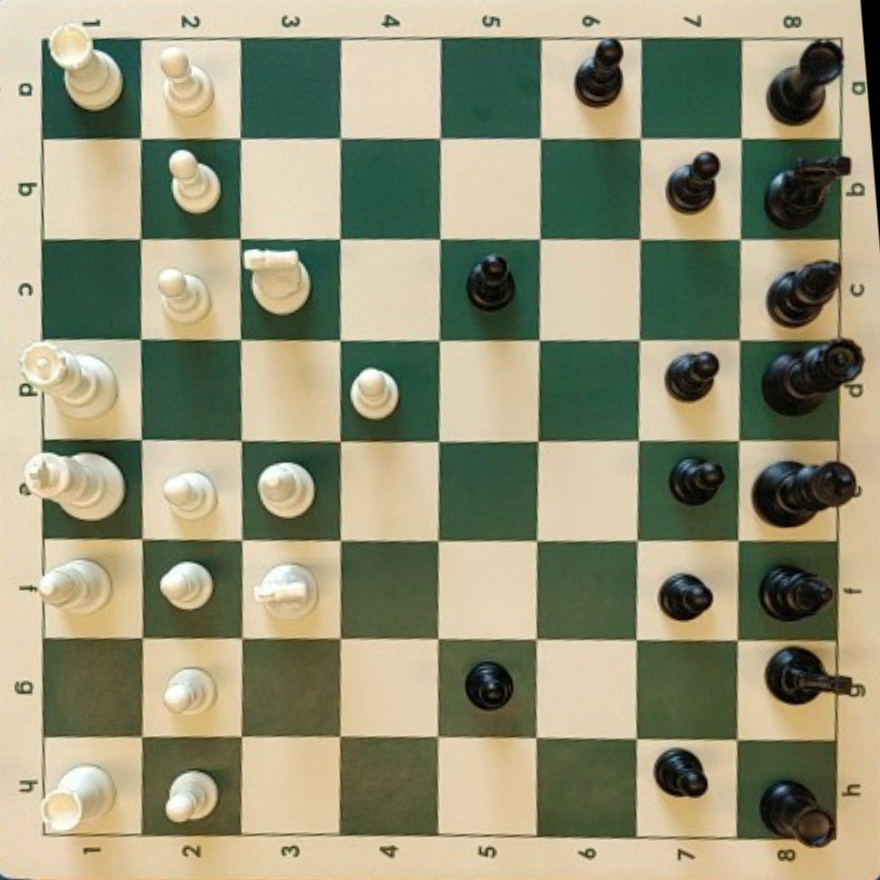black-bishop: (768, 261, 841, 325), (760, 565, 833, 621)
black-king: (754, 460, 858, 526)
black-knight: (765, 155, 850, 228), (766, 648, 865, 704)
black-pawn: (574, 37, 624, 105), (667, 152, 721, 212), (467, 254, 515, 310), (655, 749, 709, 798), (670, 456, 725, 504), (666, 352, 720, 400), (659, 573, 713, 620), (465, 661, 513, 710)
black-queen: (763, 339, 864, 415)
black-rook: (768, 40, 842, 124), (761, 779, 834, 847)
white-bishop: (36, 559, 111, 613), (257, 462, 315, 518)
white-king: (20, 451, 125, 520)
white-knight: (245, 252, 310, 315), (254, 563, 317, 619)
white-pawn: (160, 49, 214, 117), (167, 149, 221, 214), (164, 769, 218, 824), (157, 268, 209, 322), (159, 560, 213, 610), (162, 470, 216, 518), (350, 368, 399, 419), (163, 667, 214, 714)
white-queen: (19, 344, 118, 418)
white-rook: (49, 27, 124, 112), (41, 764, 115, 834)
